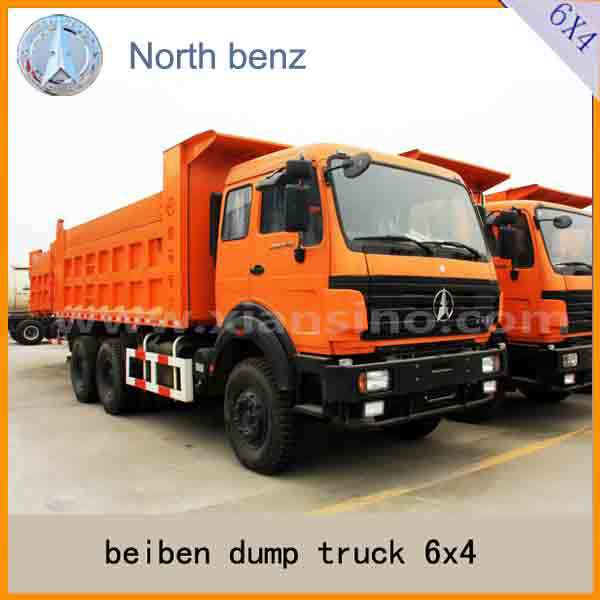truck: (38, 123, 505, 472)
